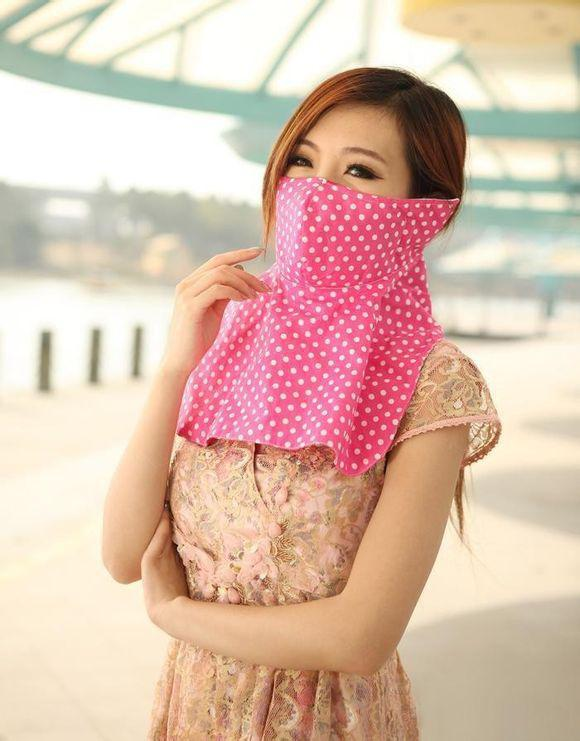OK: (277, 135, 410, 268)
